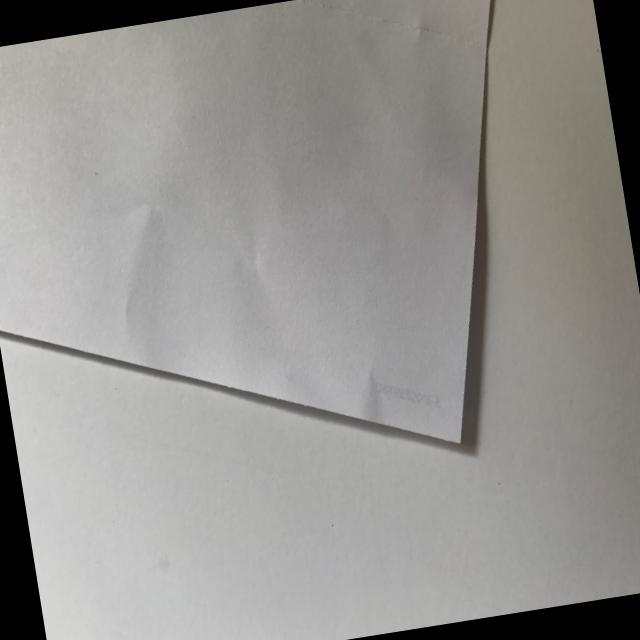Paper: (0, 0, 604, 568)
